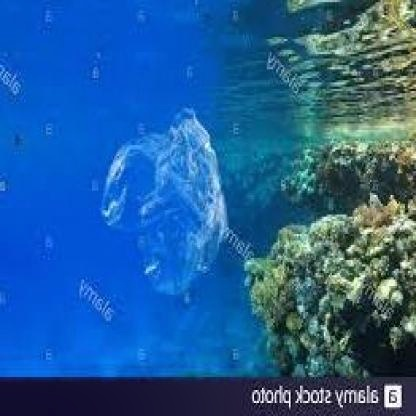pbag: (100, 108, 227, 295)
